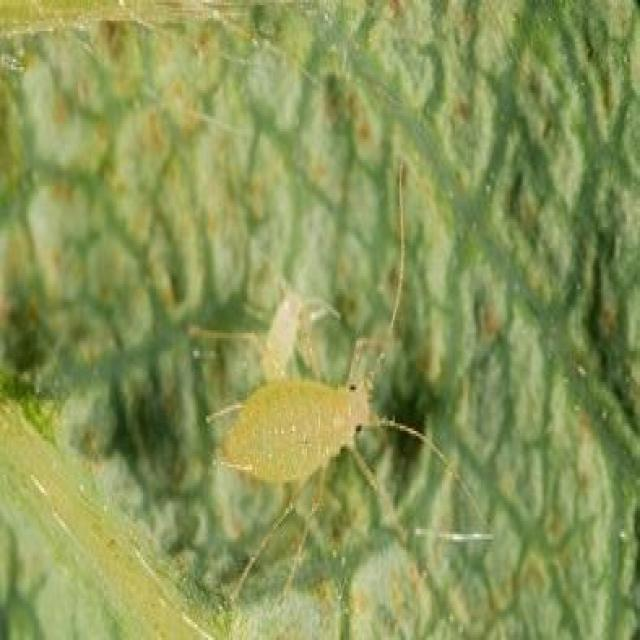Aphids: (164, 239, 500, 606)
